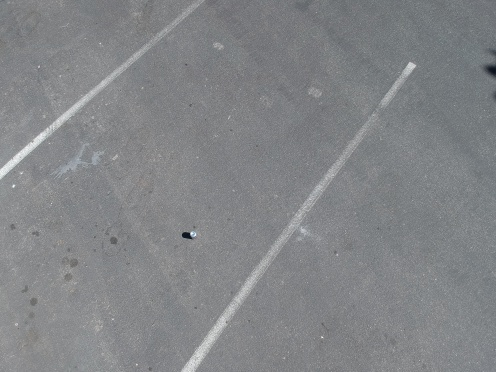can: (186, 229, 202, 240)
